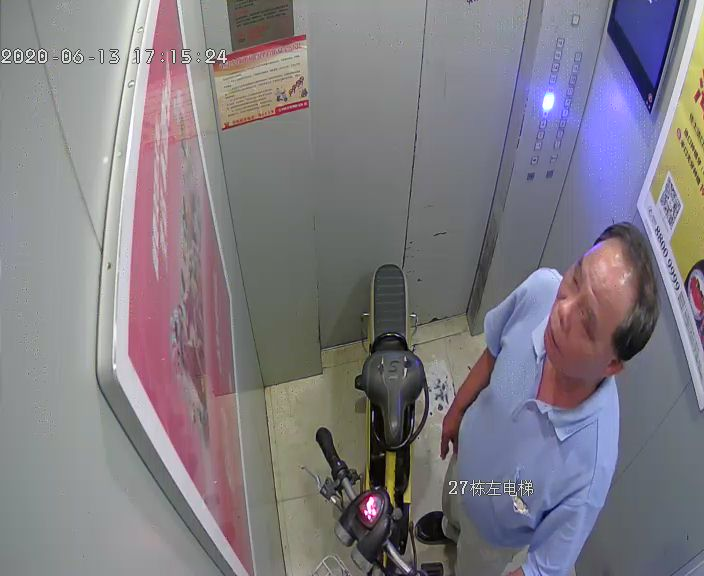Electric-bicycle: (345, 267, 431, 576)
